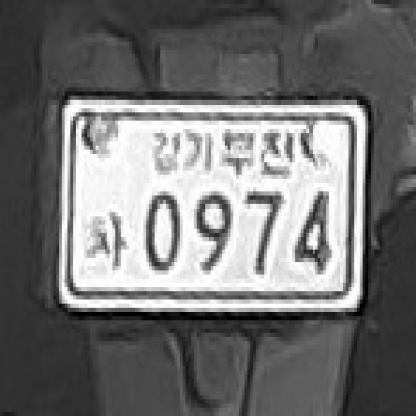bnum: (53, 87, 370, 326)
